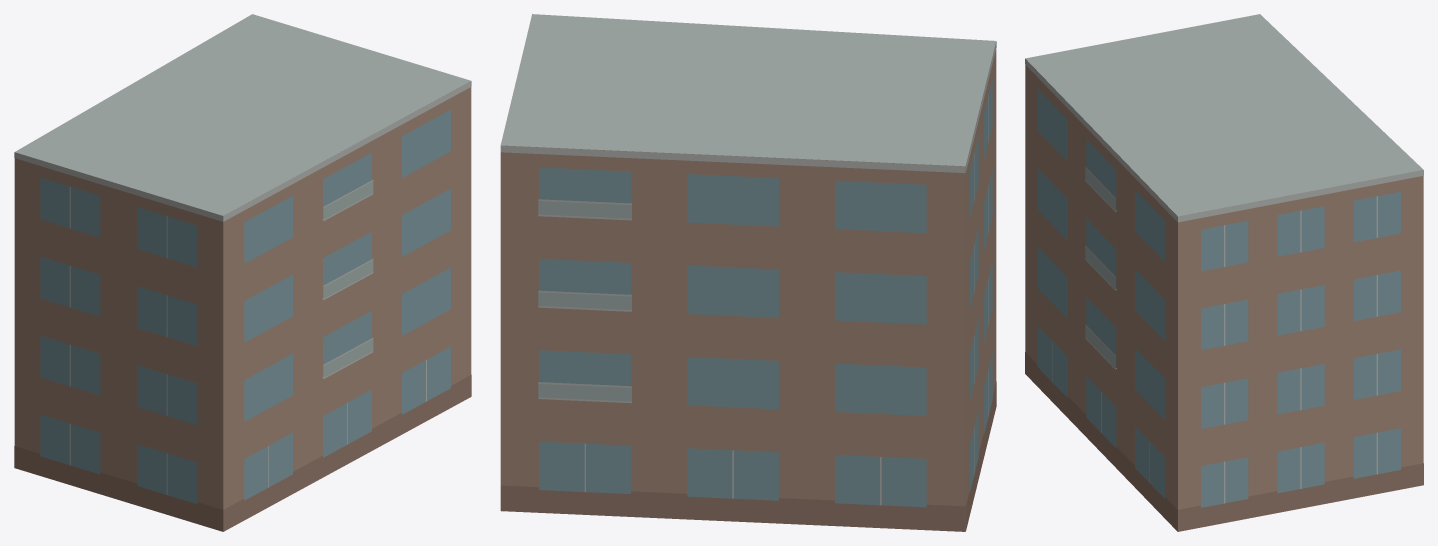
The model's file is survey-upis-32741491.glb.
3 renders of one model, left to right at view 1: azimuth 30°, elevation 25°; view 2: azimuth 150°, elevation 25°; view 3: azimuth 270°, elevation 25°, orthographic. The views are drawn at different scales.
Parts seen in each view (by area): view 1: survey-upis-32741491.tmp; view 2: survey-upis-32741491.tmp; view 3: survey-upis-32741491.tmp.
Boxes of the visible parts, <box> form: survey-upis-32741491.tmp: <box>14,14,471,531</box>; survey-upis-32741491.tmp: <box>500,14,996,531</box>; survey-upis-32741491.tmp: <box>1025,14,1423,531</box>.
Size of the model in its own units: 17.92 by 13 by 14.9.
